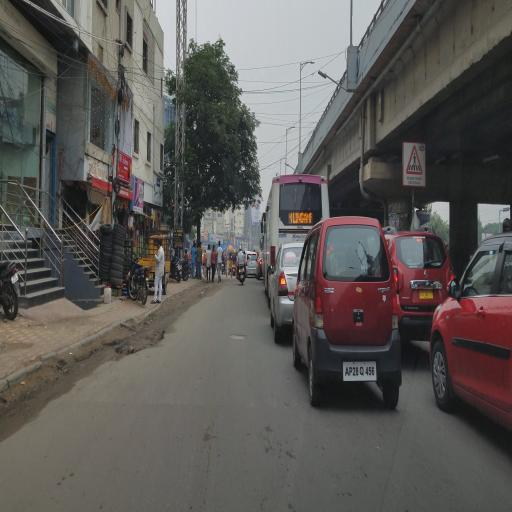street_light_0: (319, 64, 349, 96), (296, 56, 318, 72), (284, 157, 300, 175), (284, 122, 298, 136)
